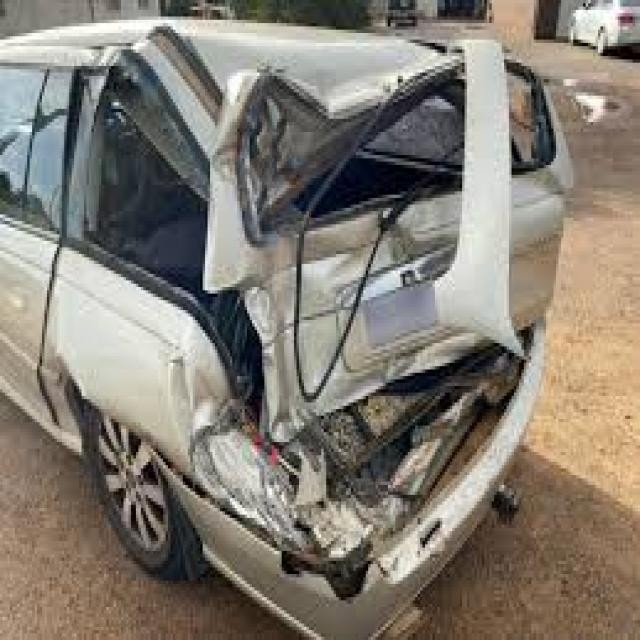damaged-trunk: (218, 76, 572, 396)
